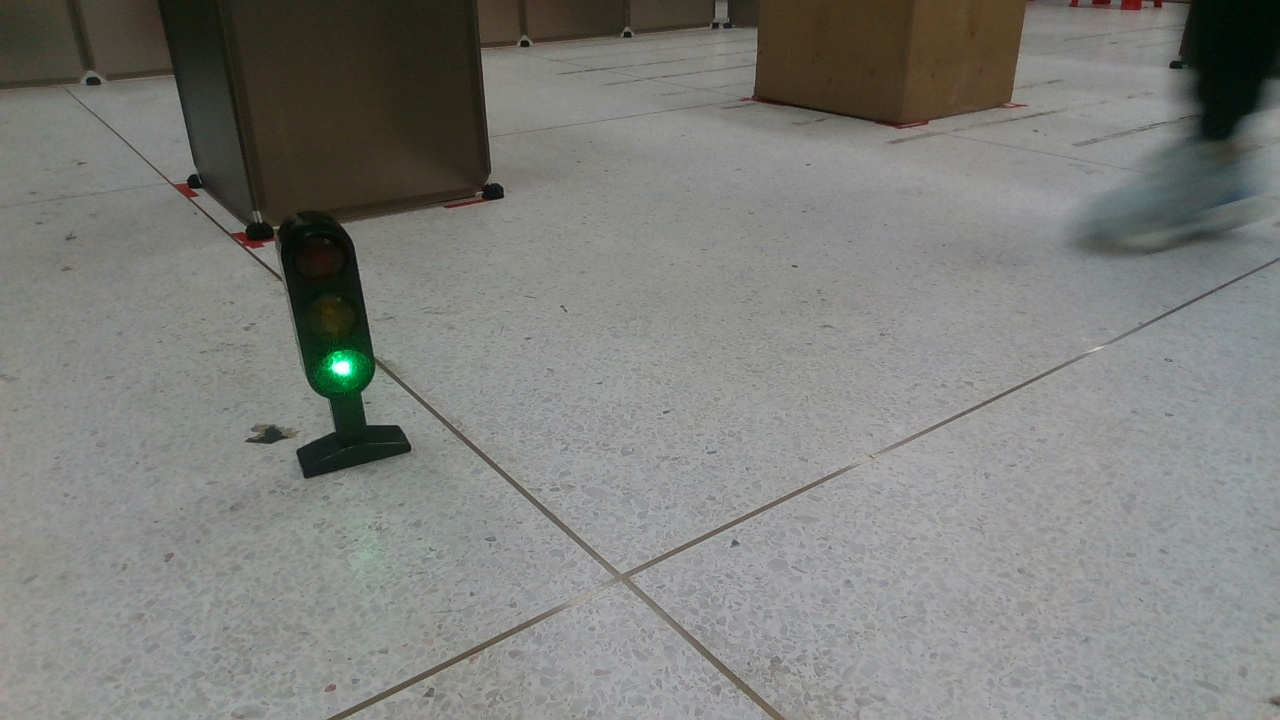Green traffic light: (258, 210, 418, 481)
